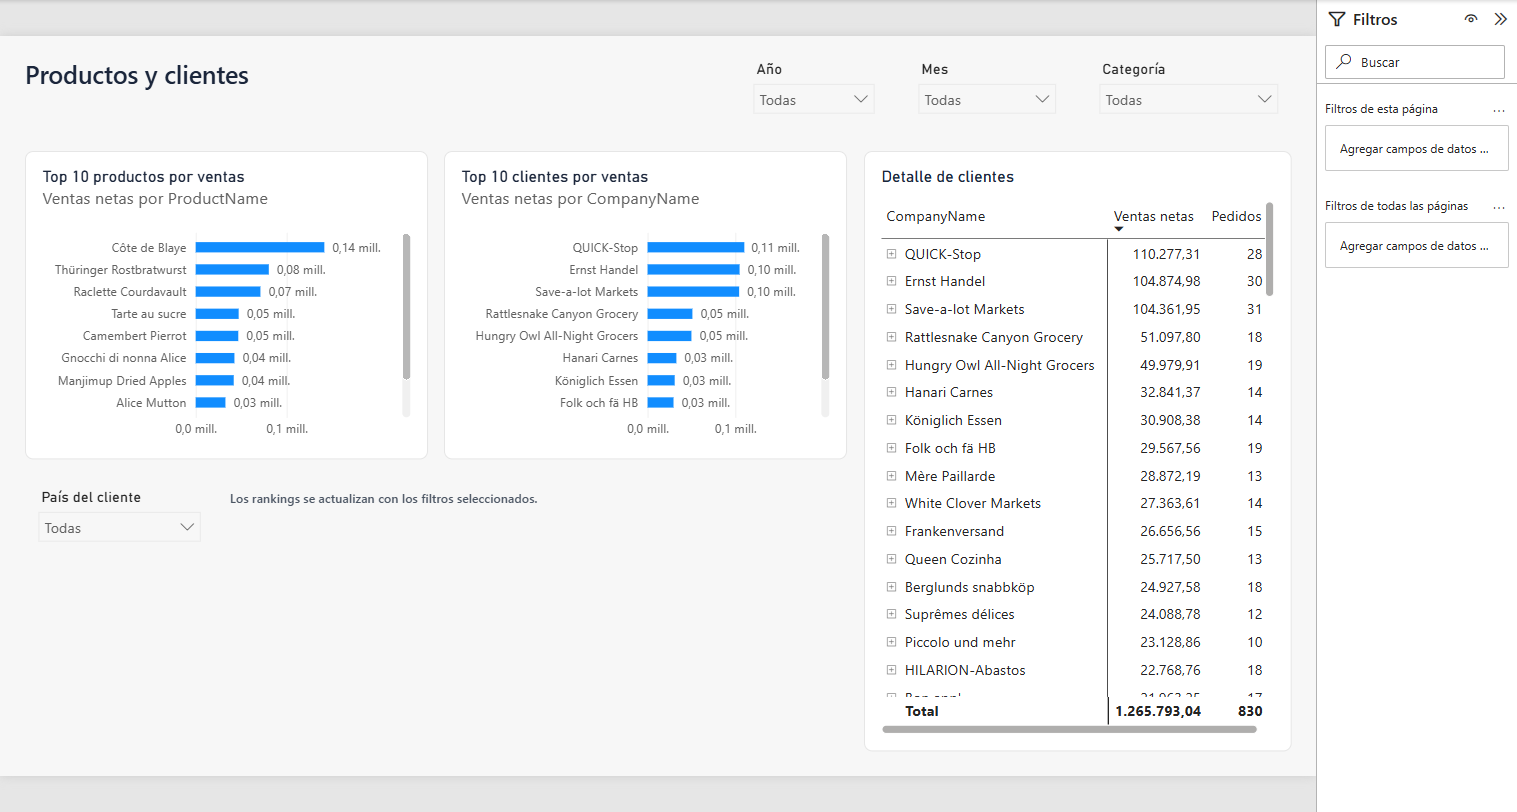

What the dashboard file says about the page in this screenshot:
{"tool":"powerbi","page":{"name":"Productos y clientes","canvas":[1280,720],"ordinal":2},"visuals":[{"type":"textbox","box":[24,20,520,52],"z":1},{"type":"slicer","fields":{"Values":["Date.CalendarYear"]},"box":[720,16,144,80],"z":2},{"type":"slicer","fields":{"Values":["Date.MonthName"]},"box":[880,16,160,80],"z":3},{"type":"slicer","fields":{"Values":["Product.CategoryName"]},"box":[1056,16,200,80],"z":4},{"type":"barChart","title":"Top 10 productos por ventas","fields":{"Category":["Product.ProductName"],"Y":["FactSales.Ventas netas"]},"box":[24,112,392,300],"z":5},{"type":"barChart","title":"Top 10 clientes por ventas","fields":{"Category":["Customer.CompanyName"],"Y":["FactSales.Ventas netas"]},"box":[432,112,392,300],"z":6},{"type":"pivotTable","title":"Detalle de clientes","fields":{"Rows":["Customer.CompanyName","Customer.Country"],"Values":["FactSales.Ventas netas","FactSales.Pedidos"]},"box":[840,112,416,584],"z":7},{"type":"slicer","fields":{"Values":["Customer.Country"]},"box":[24,432,184,80],"z":8},{"type":"textbox","box":[224,440,584,48],"z":9}]}

Visuals, with their boxes on the page's 1280x720 design canvas (x1, y1, x2, y2). These are canvas units, not pixel positions in the 1517x812 screenshot, which may show the page scaled, cropped or inside an application window:
textbox: BBox(24, 20, 544, 72)
slicer - Date.CalendarYear: BBox(720, 16, 864, 96)
slicer - Date.MonthName: BBox(880, 16, 1040, 96)
slicer - Product.CategoryName: BBox(1056, 16, 1256, 96)
"Top 10 productos por ventas" barChart: BBox(24, 112, 416, 412)
"Top 10 clientes por ventas" barChart: BBox(432, 112, 824, 412)
"Detalle de clientes" pivotTable: BBox(840, 112, 1256, 696)
slicer - Customer.Country: BBox(24, 432, 208, 512)
textbox: BBox(224, 440, 808, 488)
